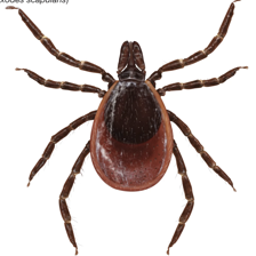Ixodes scapularis: (8, 5, 244, 254)
